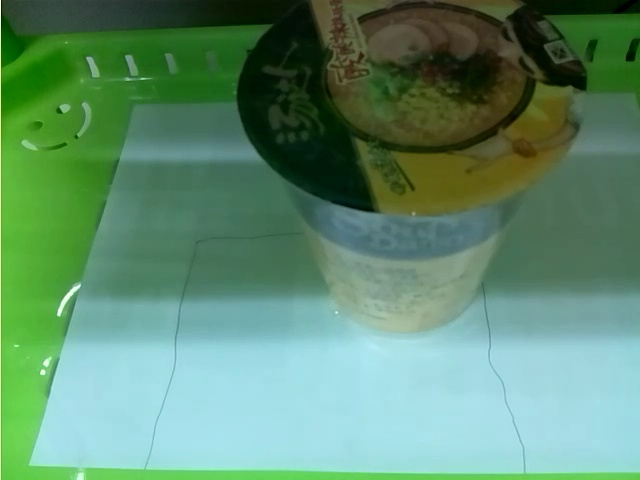noodles: (234, 1, 589, 344)
